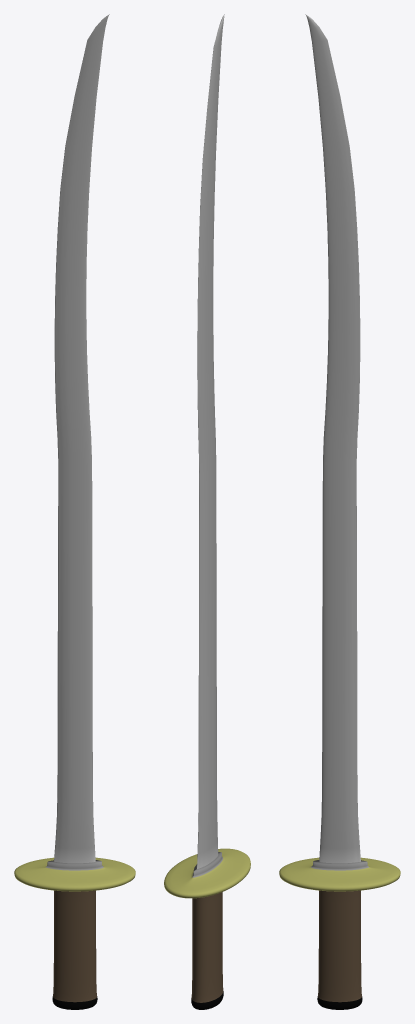
The model's file is katana2 1.fbx.
3 views of the same model, side by side, from view 1: azimuth 90°, elevation 25°; view 2: azimuth 150°, elevation 25°; view 3: azimuth 270°, elevation 25° (orthographic).
Parts seen in each view (by area): view 1: pasted__pCylinder1; view 2: pasted__pCylinder1; view 3: pasted__pCylinder1.
Part boxes in pixels (box(x1,y1,x2,y2)): pasted__pCylinder1: box(14, 14, 135, 1009); pasted__pCylinder1: box(164, 14, 250, 1009); pasted__pCylinder1: box(279, 14, 400, 1009).
Bounding box in the file's own units: 1.04 × 15.37 × 1.7.
